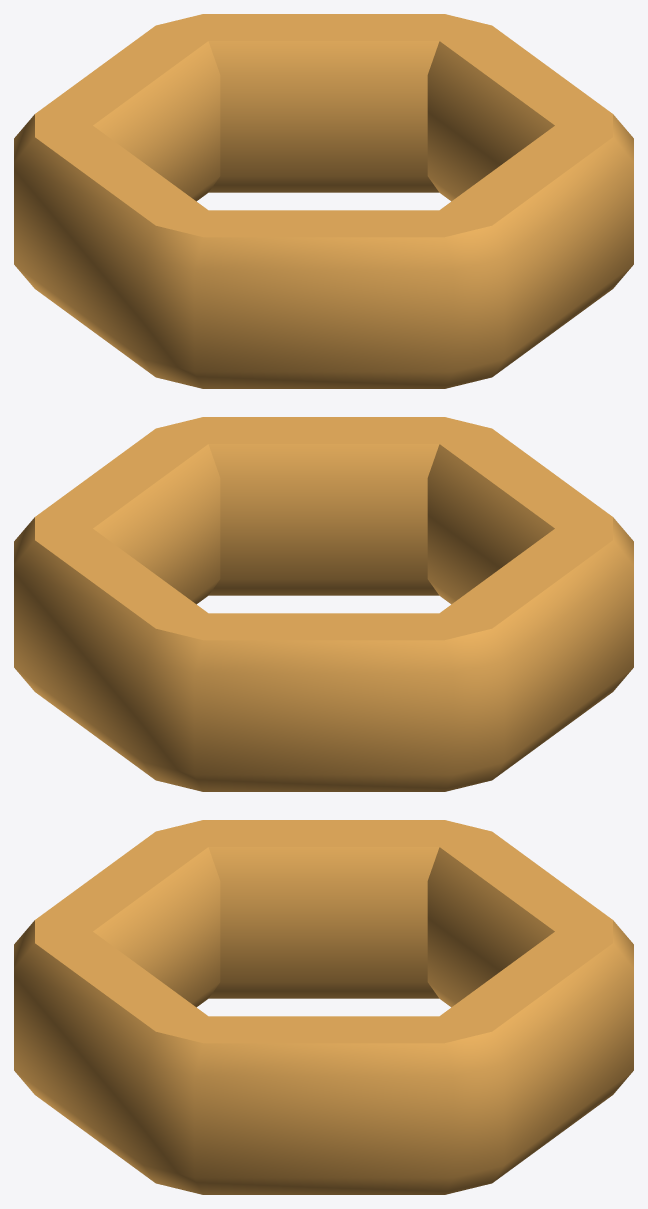
The model's file is Hexagon_02.fbx.
3 renders of one model, top to bottom at view 1: azimuth 30°, elevation 25°; view 2: azimuth 150°, elevation 25°; view 3: azimuth 270°, elevation 25°, orthographic.
Visible parts, largest first — view 1: Hexagon_02; view 2: Hexagon_02; view 3: Hexagon_02.
Part boxes in pixels (x1,y1,x2,y2): Hexagon_02: (14, 14, 633, 388); Hexagon_02: (14, 417, 633, 791); Hexagon_02: (14, 820, 633, 1194).
Size of the model in its own units: 338 by 100 by 370.
